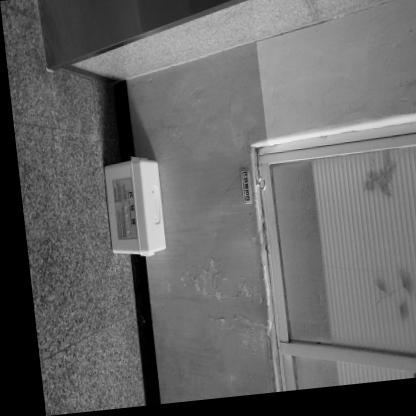DDL: (98, 157, 162, 258)
